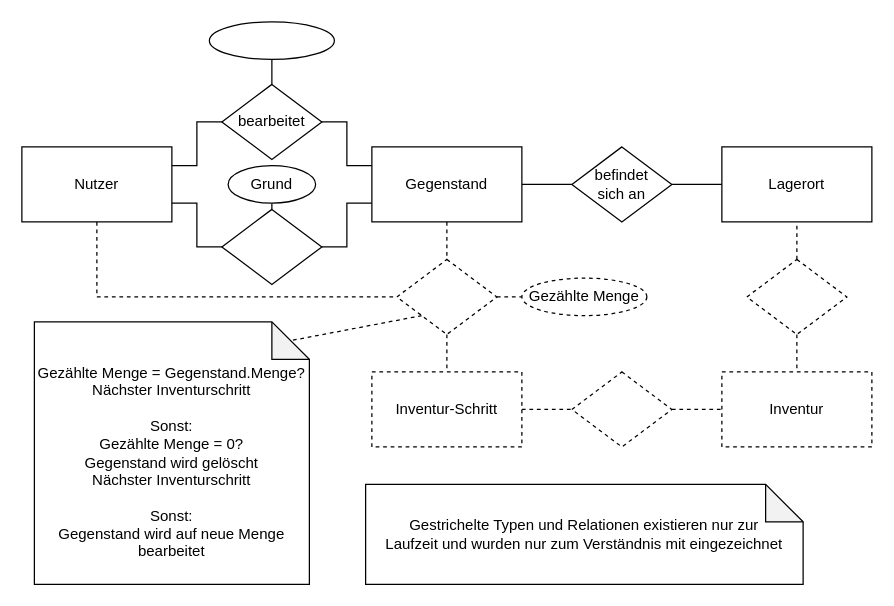
Image size: 894x606. Some labels were removed from this diagram. The centre of each missing label's shape, as x and y in pixels:
"beinhaltet" goes at (x=621, y=409).
"geht über" goes at (x=796, y=296).
"löscht" goes at (x=271, y=246).
"Neue Menge" goes at (x=271, y=40).
"prüft" goes at (x=446, y=296).
